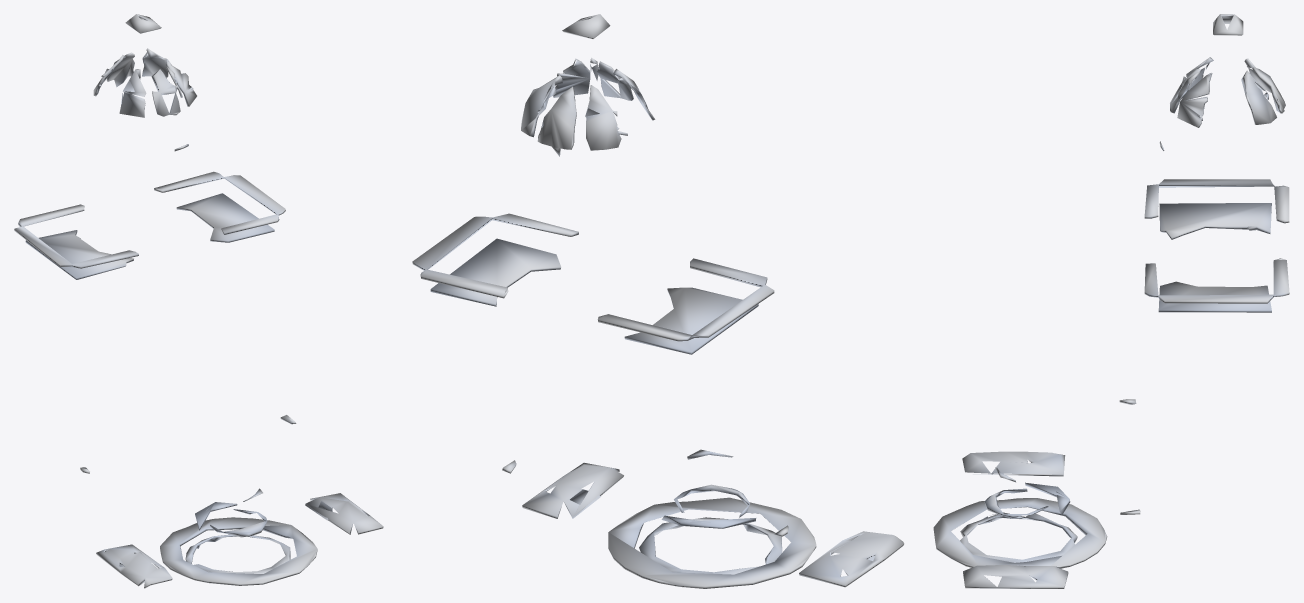
File: protocol.fluid.snow.glb
The picture shows the model from 3 angles, left to right: view 1: azimuth 30°, elevation 25°; view 2: azimuth 150°, elevation 25°; view 3: azimuth 270°, elevation 25°; orthographic projection. The views are drawn at different scales.
Visible parts, largest first — view 1: building.protocol.fluid.snow.mesh; view 2: building.protocol.fluid.snow.mesh; view 3: building.protocol.fluid.snow.mesh.
Boxes of the visible parts, <box> form: building.protocol.fluid.snow.mesh: <box>14,14,383,588</box>; building.protocol.fluid.snow.mesh: <box>412,14,904,588</box>; building.protocol.fluid.snow.mesh: <box>933,14,1289,588</box>.
Size of the model in its own units: 7.52 by 13.9 by 8.46.
